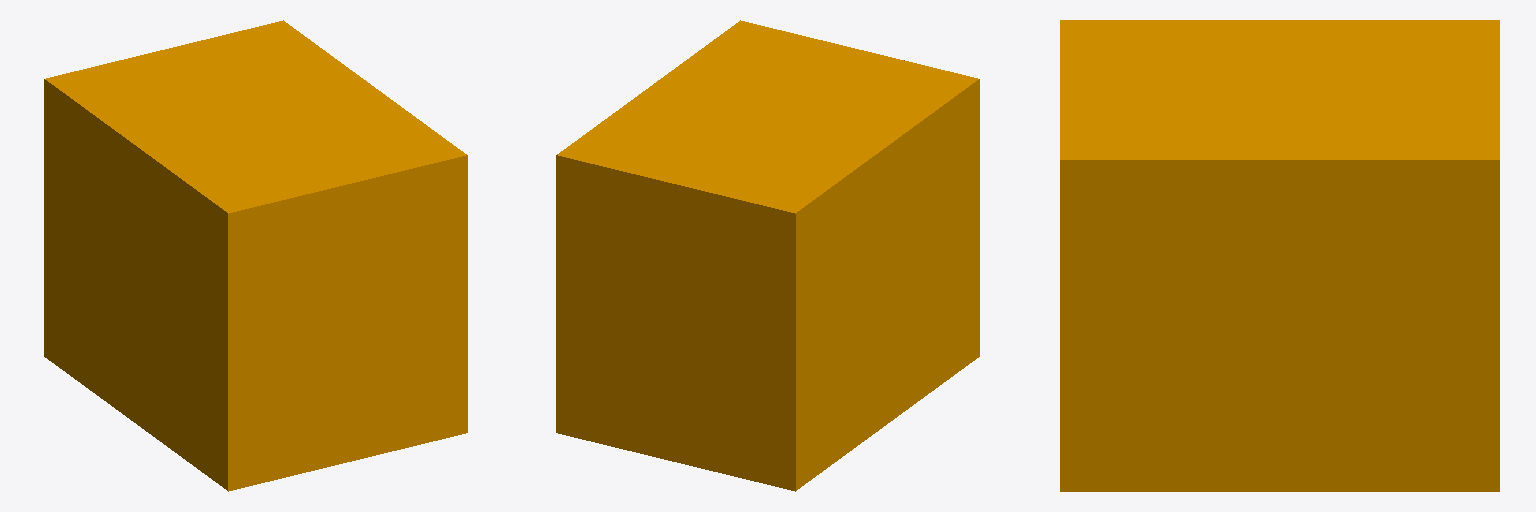
URDF robot description (object):
<robot name="object">
  <link name="object">
    <visual>
      <origin xyz="0 0 0" />
      <geometry>
        <box size="0.07200000000000001 0.09600000000000003 0.08" />
      </geometry>
    </visual>

    <collision>
      <origin xyz="0 0 0" />
      <geometry>
        <box size="0.07200000000000001 0.09600000000000003 0.08" />
      </geometry>
    </collision>

    <inertial>
      <mass value="0.05" />
      <inertia ixx="0.0001" ixy="0.0" ixz="0.0" iyy="0.0001" iyz="0.0" izz="0.0001" />
    </inertial>
  </link>
</robot>

--- What the picture shows (computed from the rendered views, not written in the file) ---
Views: 3 orthographic renders of the robot side by side, from view 1: azimuth 30°, elevation 25°; view 2: azimuth 150°, elevation 25°; view 3: azimuth 270°, elevation 25°.
Model object with 1 links and 0 joints (none), rooted at object, posed every joint at zero.
Links seen in each view (by area): view 1: object; view 2: object; view 3: object.
Link boxes in pixels (left/top/right/bottom): object: left=44, top=20, right=467, bottom=491; object: left=556, top=20, right=979, bottom=491; object: left=1060, top=20, right=1499, bottom=491.
Size in the robot's own frame: 0.072 by 0.096 by 0.08 metres.
Geometry: primitives only (box / cylinder / sphere), no mesh files.